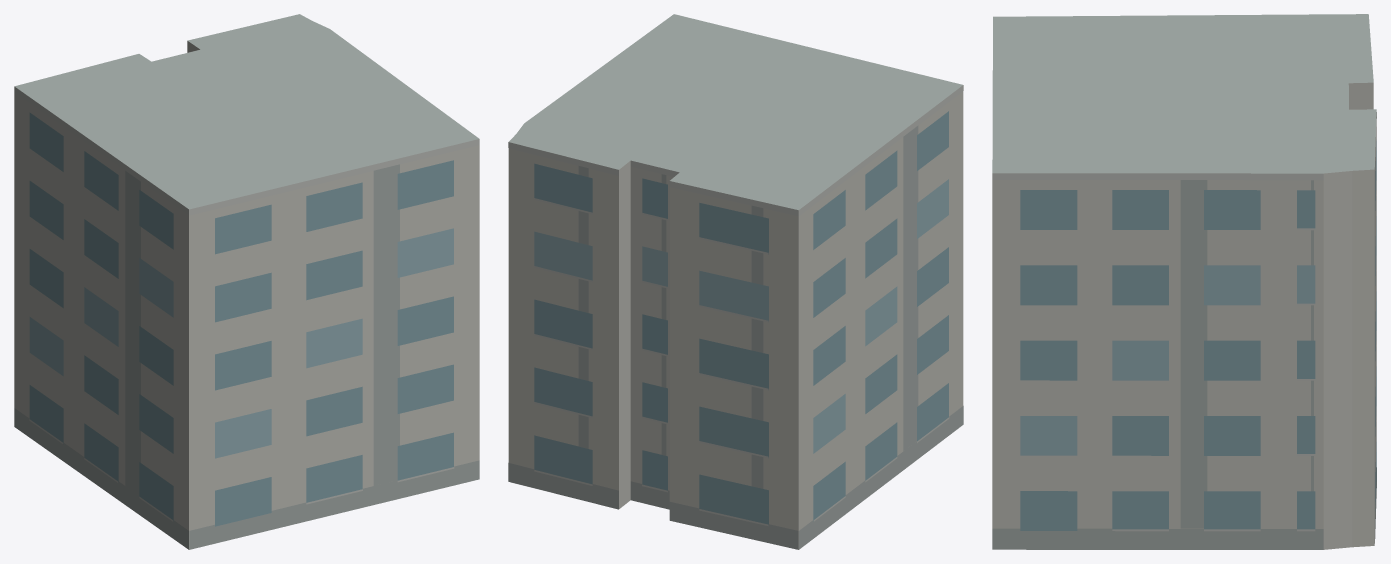
The model's file is survey-upis-32881466.glb.
3 renders of one model, left to right at view 1: azimuth 30°, elevation 25°; view 2: azimuth 150°, elevation 25°; view 3: azimuth 270°, elevation 25°, orthographic. The views are drawn at different scales.
Parts seen in each view (by area): view 1: survey-upis-32881466.tmp; view 2: survey-upis-32881466.tmp; view 3: survey-upis-32881466.tmp.
Part boxes in pixels (box(x1,y1,x2,y2)): survey-upis-32881466.tmp: box(14, 14, 479, 549); survey-upis-32881466.tmp: box(508, 14, 963, 549); survey-upis-32881466.tmp: box(992, 14, 1376, 549).
Bounding box in the file's own units: 12.47 × 13.7 × 12.7.
